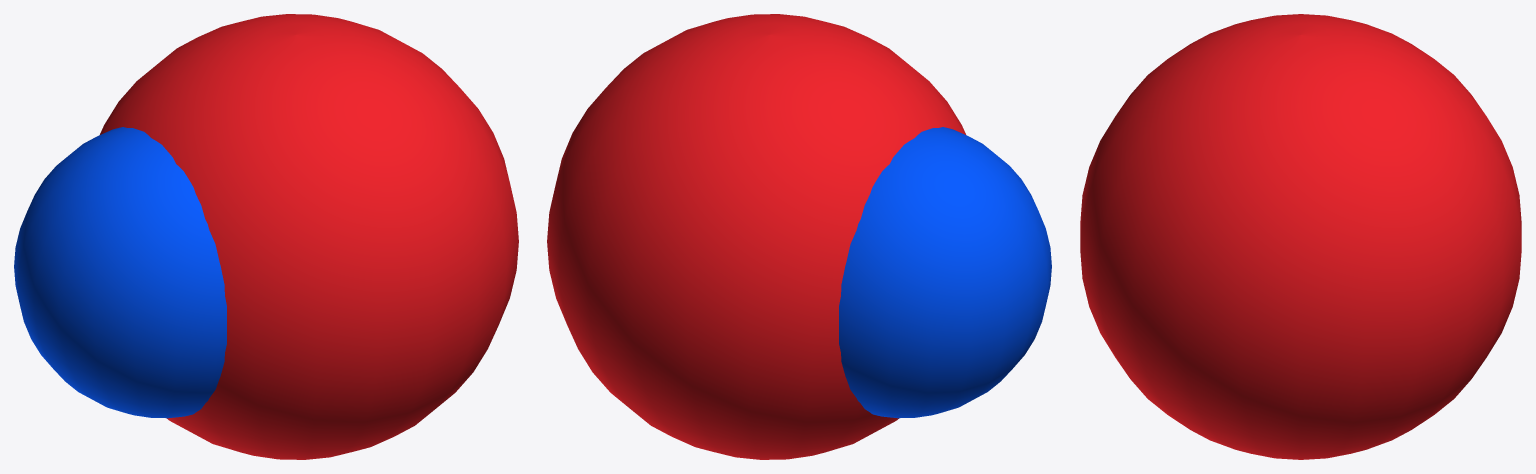
The picture shows the model from 3 angles, left to right: view 1: azimuth 30°, elevation 25°; view 2: azimuth 150°, elevation 25°; view 3: azimuth 270°, elevation 25°; orthographic projection.
Visible parts, largest first — view 1: Сферы_Node (×2); view 2: Сферы_Node (×2); view 3: Сферы_Node.
Part boxes in pixels (x1,y1,x2,y2): Сферы_Node (×2): (14,14,518,459); Сферы_Node (×2): (547,14,1051,459); Сферы_Node: (1080,14,1521,459).
Size of the model in its own units: 2.83 by 2.4 by 2.38.
Materials: 2 (2 with a texture image).
